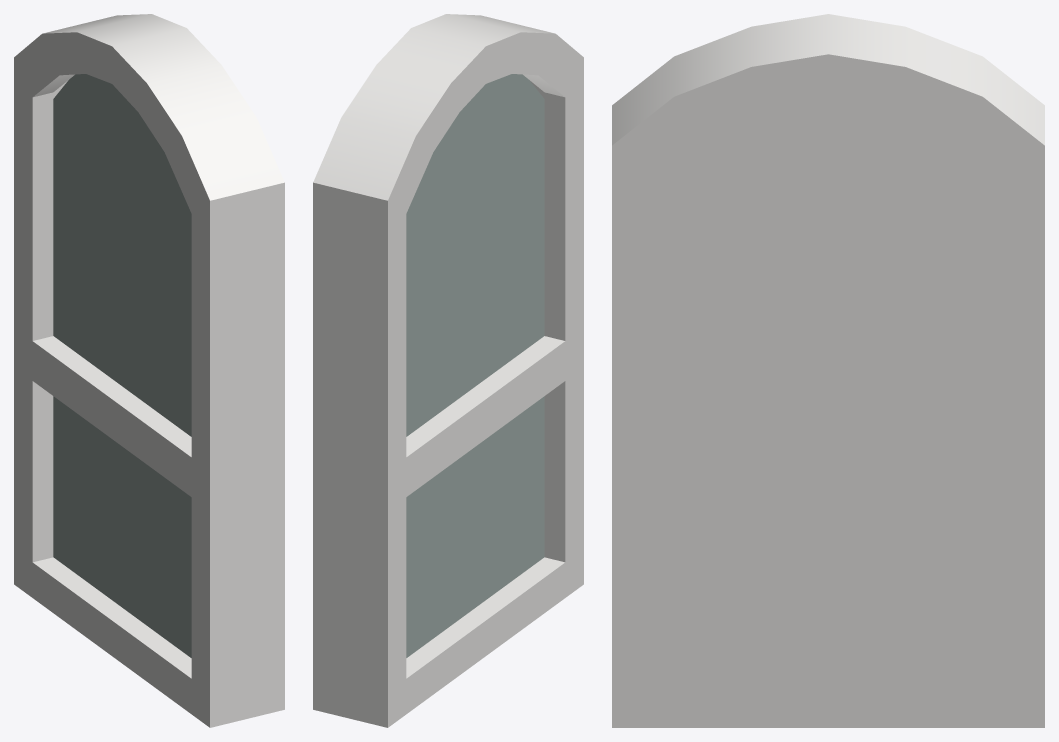
Rendered from fbx_restaurant_ex_window2.fbx.
The picture shows the model from 3 angles, left to right: view 1: azimuth 30°, elevation 25°; view 2: azimuth 150°, elevation 25°; view 3: azimuth 270°, elevation 25°; orthographic projection. The views are drawn at different scales.
Visible parts, largest first — view 1: fbx_restaurant_ex_window2; view 2: fbx_restaurant_ex_window2; view 3: fbx_restaurant_ex_window2.
Part boxes in pixels (x1,y1,x2,y2): fbx_restaurant_ex_window2: (14, 14, 284, 727); fbx_restaurant_ex_window2: (313, 14, 583, 727); fbx_restaurant_ex_window2: (612, 14, 1044, 727).
Bounding box in the file's own units: 0.1297 × 1.01 × 0.5891.
Materials: 2 (1 with a texture image).
